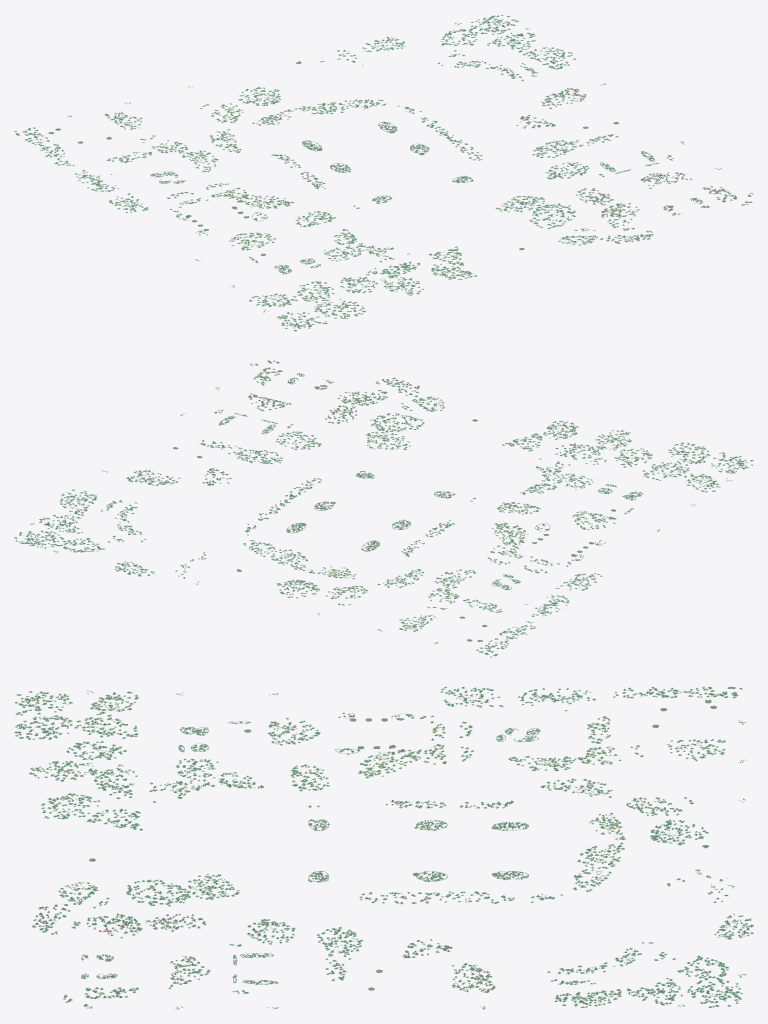
Rendered from sunwen-landscape.glb.
3 views of the same model, one above another, from view 1: azimuth 30°, elevation 25°; view 2: azimuth 150°, elevation 25°; view 3: azimuth 270°, elevation 25° (orthographic). The views are drawn at different scales.
Parts seen in each view (by area): view 1: Root_Garden_Underplanting_beanLeaf.001, Root_Garden_Underplanting_leaf.001, Root_Garden_Underplanting_jadeLeaf.001; view 2: Root_Garden_Underplanting_beanLeaf.001, Root_Garden_Underplanting_leaf.001, Root_Garden_Underplanting_jadeLeaf.001; view 3: Root_Garden_Underplanting_beanLeaf.001, Root_Garden_Underplanting_leaf.001, Root_Garden_Underplanting_jadeLeaf.001.
Boxes of the visible parts, x1,y1,x2,y2 form: Root_Garden_Underplanting_beanLeaf.001: (31,19,752,322); Root_Garden_Underplanting_leaf.001: (31,19,753,322); Root_Garden_Underplanting_jadeLeaf.001: (31,21,753,322); Root_Garden_Underplanting_beanLeaf.001: (30,364,733,649); Root_Garden_Underplanting_leaf.001: (30,364,733,649); Root_Garden_Underplanting_jadeLeaf.001: (31,363,732,647); Root_Garden_Underplanting_beanLeaf.001: (33,690,747,1009); Root_Garden_Underplanting_leaf.001: (35,691,745,1009); Root_Garden_Underplanting_jadeLeaf.001: (32,690,746,1009).
Size of the model in its own units: 291 by 8.76 by 281.
